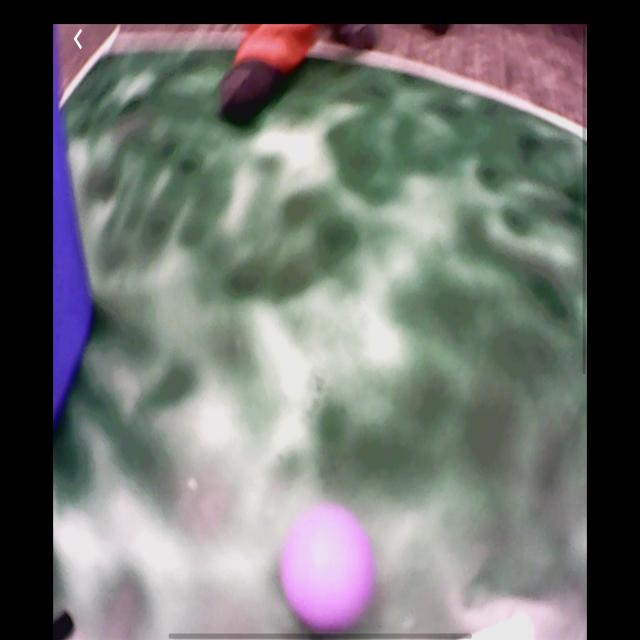ball: (281, 503, 376, 636)
